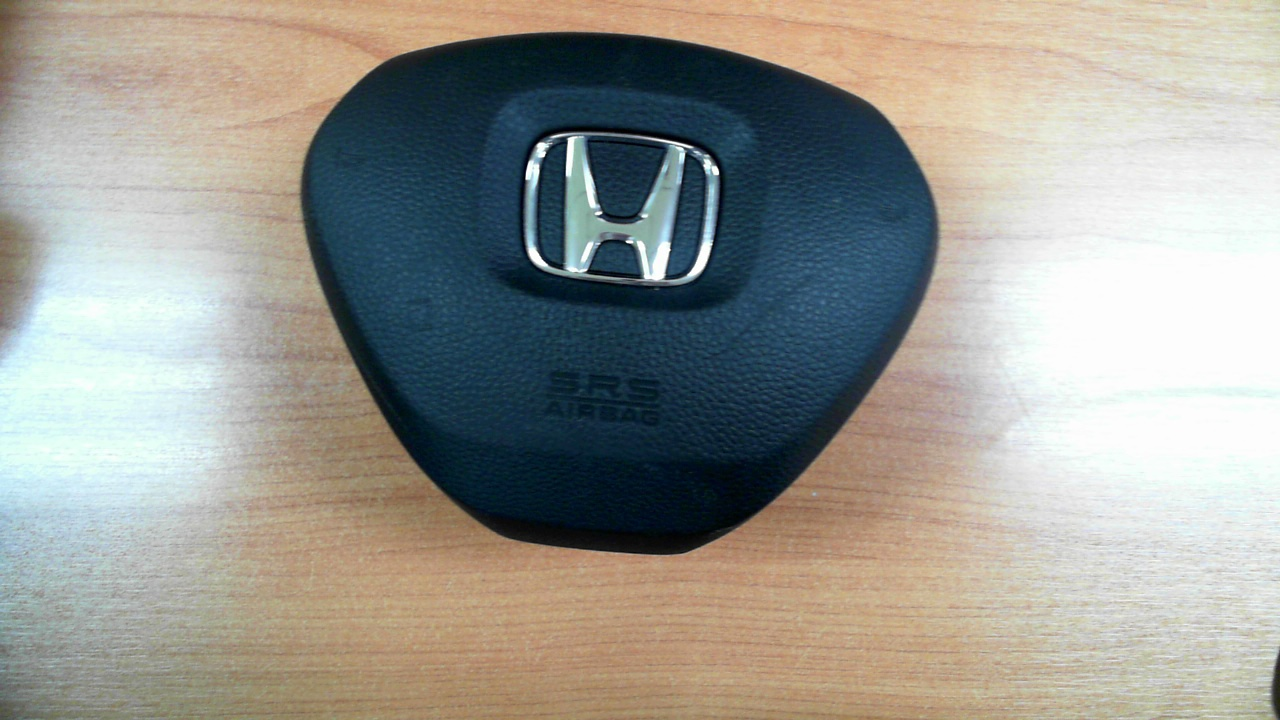Airbag: (299, 32, 941, 557)
Honda: (522, 131, 721, 287)
